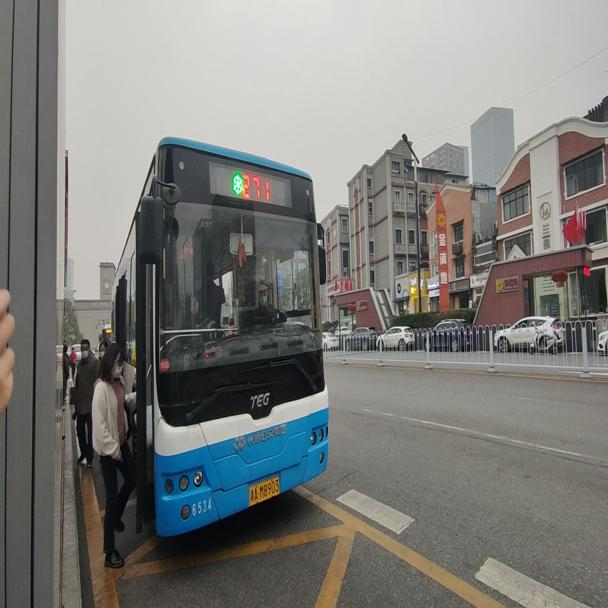bus: (109, 135, 328, 531)
screen: (240, 167, 273, 200)
